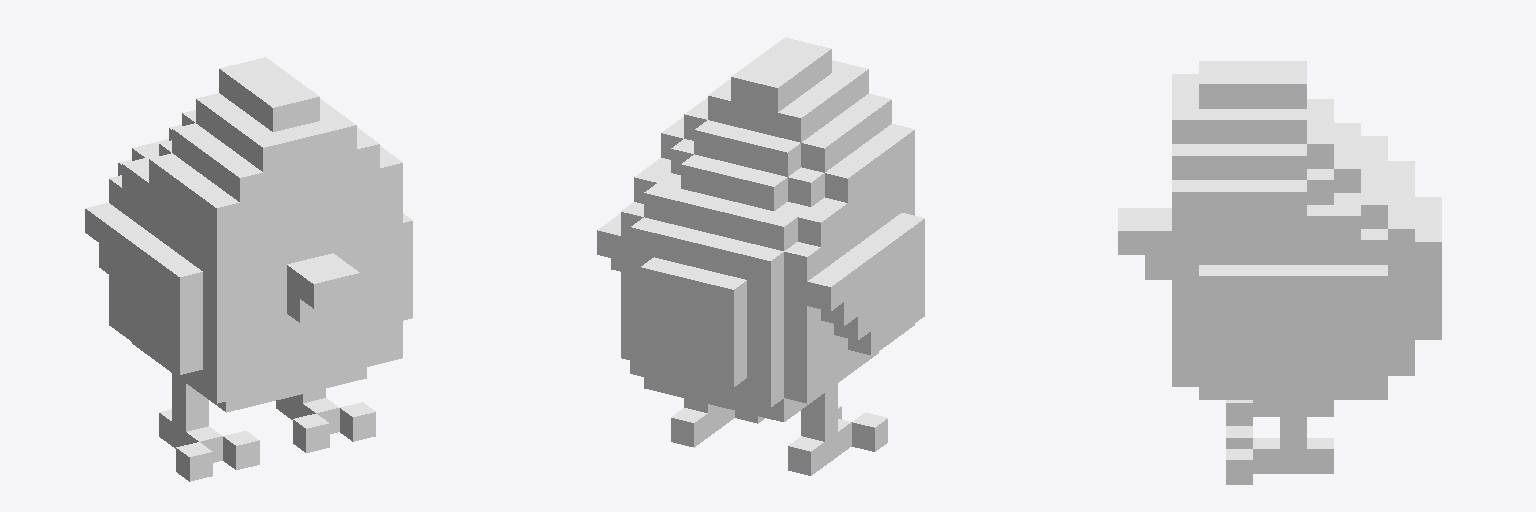
Rendered from Chicken_Ice.obj.
The picture shows the model from 3 angles: view 1: azimuth 30°, elevation 25°; view 2: azimuth 150°, elevation 25°; view 3: azimuth 270°, elevation 25°; orthographic projection.
Parts seen in each view (by area): view 1: object 1; view 2: object 1; view 3: object 1.
Part boxes in pixels (x1,y1,x2,y2): object 1: (85,57,412,481); object 1: (597,37,924,475); object 1: (1118,61,1441,484).
Size of the model in its own units: 1 by 1.5 by 1.2.